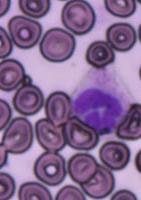N: (70, 65, 132, 136)
